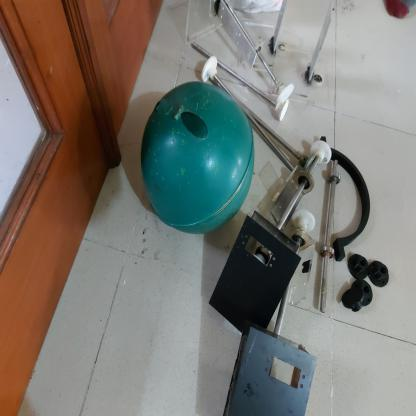green_buoy: (138, 78, 258, 238)
